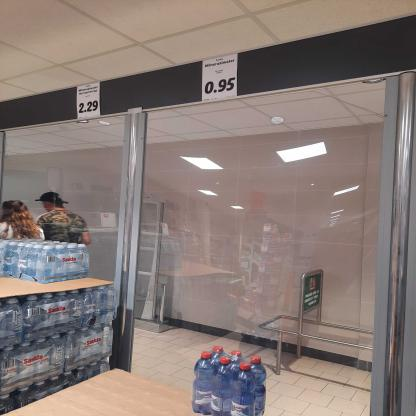prtg: (203, 54, 239, 102), (79, 83, 102, 120)
